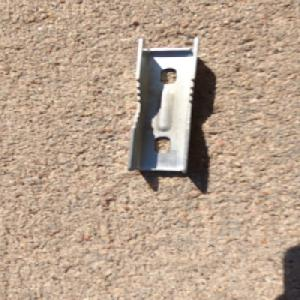ClampPart: (123, 33, 205, 174)
